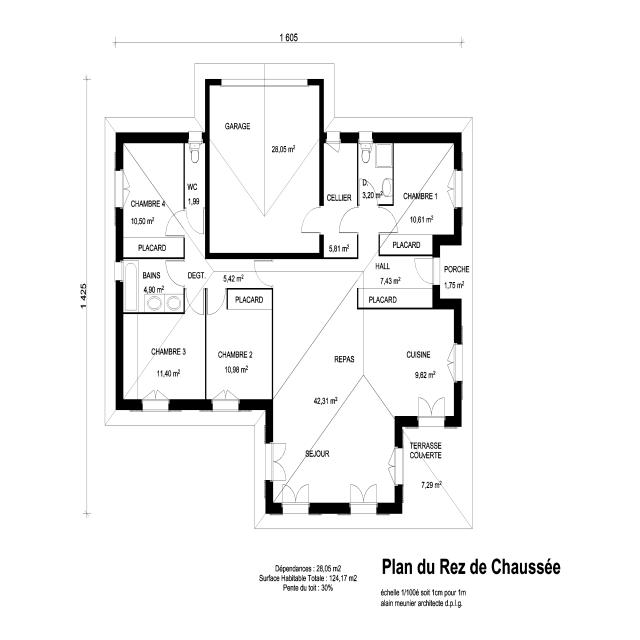door: (347, 479, 379, 509), (417, 394, 447, 424), (298, 204, 324, 236), (385, 443, 402, 487), (414, 254, 436, 285), (338, 204, 360, 234), (164, 258, 186, 288), (290, 482, 312, 511), (206, 289, 227, 315), (187, 286, 204, 315), (325, 126, 342, 154), (187, 134, 204, 162), (187, 208, 204, 235), (114, 260, 124, 284)
window: (264, 76, 308, 91), (261, 438, 274, 486), (220, 76, 265, 89), (452, 338, 464, 385), (452, 169, 462, 210), (114, 170, 124, 210), (356, 130, 376, 142), (115, 259, 123, 284)
zone: (273, 261, 457, 418), (209, 83, 324, 255), (120, 312, 206, 402), (122, 140, 184, 256), (204, 303, 274, 401), (393, 140, 455, 240), (322, 140, 357, 258), (121, 258, 185, 313), (358, 142, 393, 203), (184, 140, 206, 209), (226, 289, 273, 310), (322, 235, 358, 258)
